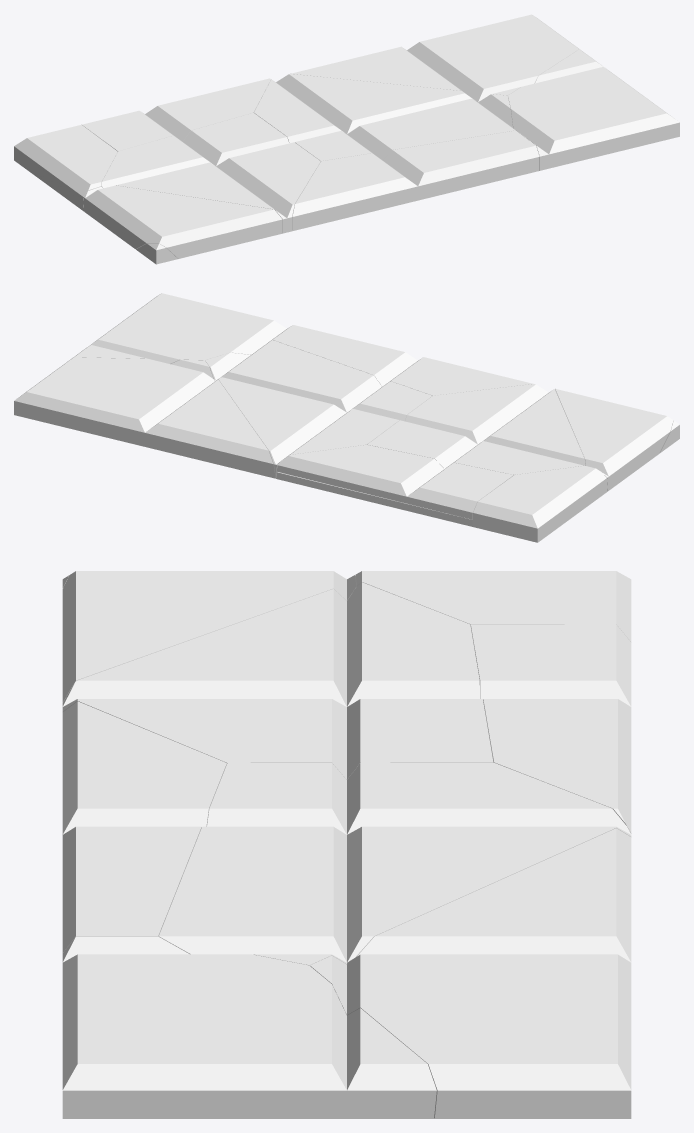
Rendered from chocolate_broken_M.fbx.
3 renders of one model, top to bottom at view 1: azimuth 30°, elevation 25°; view 2: azimuth 150°, elevation 25°; view 3: azimuth 270°, elevation 25°, orthographic. The views are drawn at different scales.
Parts seen in each view (by area): view 1: chocolate_cell.004, chocolate_cell.001, chocolate_cell.002, chocolate_cell.009, chocolate_cell.008, chocolate_cell.007, chocolate_cell, chocolate_cell.003, chocolate_cell.006; view 2: chocolate_cell.008, chocolate_cell.004, chocolate_cell.001, chocolate_cell, chocolate_cell.009, chocolate_cell.003, chocolate_cell.002, chocolate_cell.007, chocolate_cell.005; view 3: chocolate_cell.004, chocolate_cell.008, chocolate_cell.009, chocolate_cell.001, chocolate_cell.002, chocolate_cell, chocolate_cell.007, chocolate_cell.003.
Boxes of the visible parts, <box> form: chocolate_cell.004: <box>254,74,515,161</box>; chocolate_cell.001: <box>101,113,320,233</box>; chocolate_cell.002: <box>292,130,539,230</box>; chocolate_cell.009: <box>508,49,679,170</box>; chocolate_cell.008: <box>290,14,582,101</box>; chocolate_cell.007: <box>83,185,282,258</box>; chocolate_cell: <box>82,78,271,151</box>; chocolate_cell.003: <box>14,124,117,211</box>; chocolate_cell.006: <box>136,243,177,264</box>; chocolate_cell.008: <box>14,357,275,478</box>; chocolate_cell.004: <box>205,340,432,477</box>; chocolate_cell.001: <box>367,384,585,474</box>; chocolate_cell: <box>277,445,513,519</box>; chocolate_cell.009: <box>67,293,290,363</box>; chocolate_cell.003: <box>472,465,607,542</box>; chocolate_cell.002: <box>273,325,533,395</box>; chocolate_cell.007: <box>555,388,673,490</box>; chocolate_cell.005: <box>276,472,472,526</box>; chocolate_cell.004: <box>158,762,631,965</box>; chocolate_cell.008: <box>310,828,631,1118</box>; chocolate_cell.009: <box>62,936,436,1118</box>; chocolate_cell.001: <box>62,582,493,779</box>; chocolate_cell.002: <box>62,701,226,952</box>; chocolate_cell: <box>470,624,631,832</box>; chocolate_cell.007: <box>62,571,356,702</box>; chocolate_cell.003: <box>355,571,631,641</box>.
Size of the model in its own units: 425 by 17.76 by 200.
